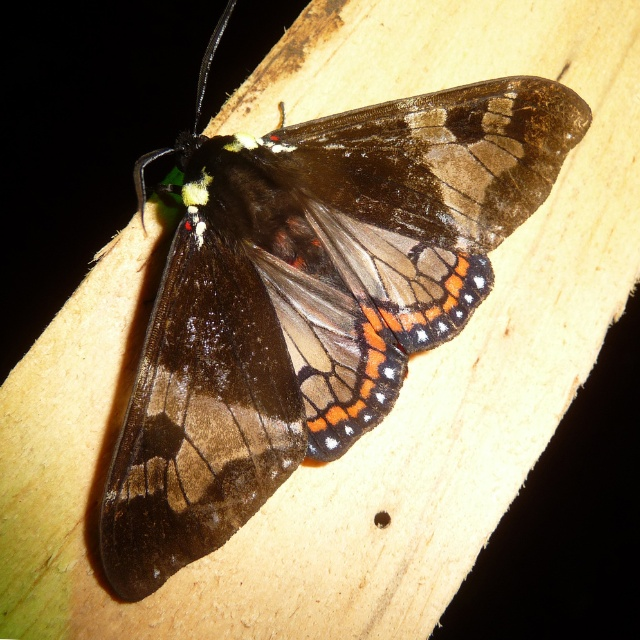Butterfly: (51, 19, 578, 599)
